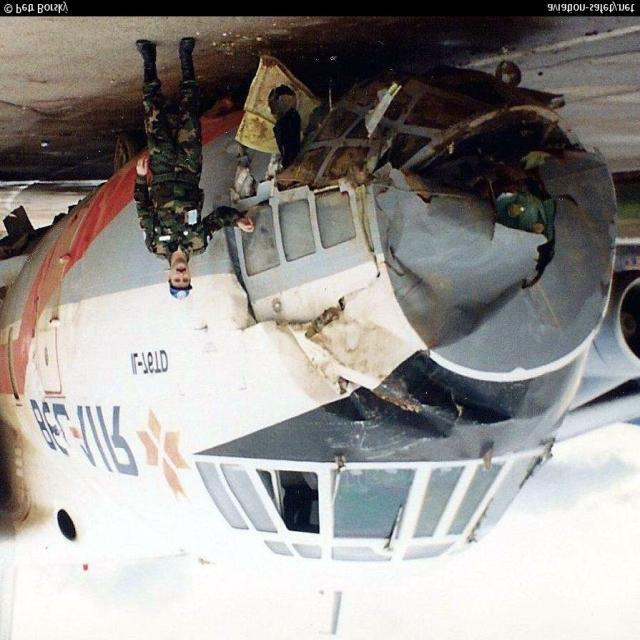dent: (334, 371, 486, 438)
